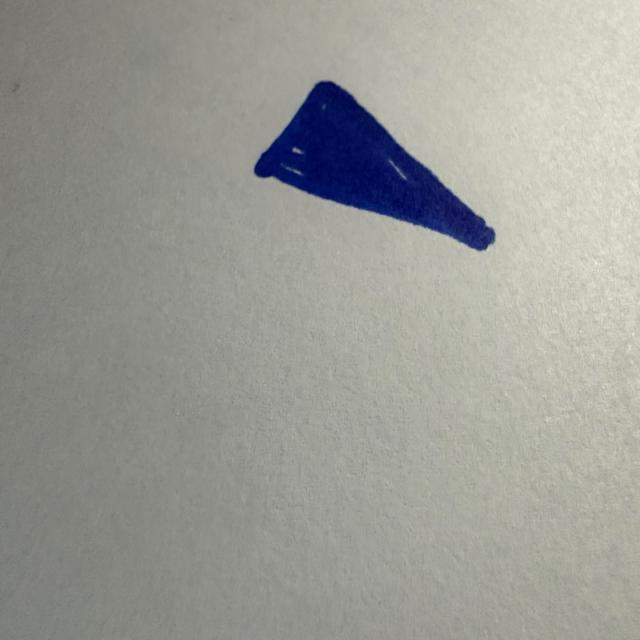Triangle: (254, 81, 495, 251)
